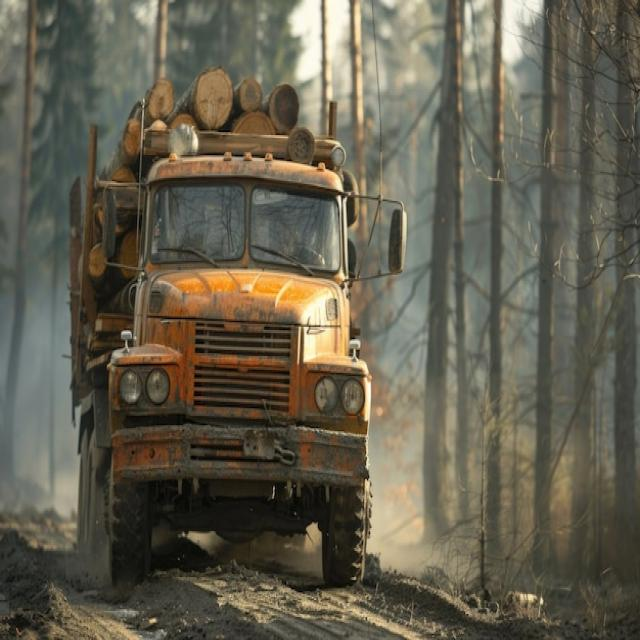Truck: (67, 64, 418, 594)
